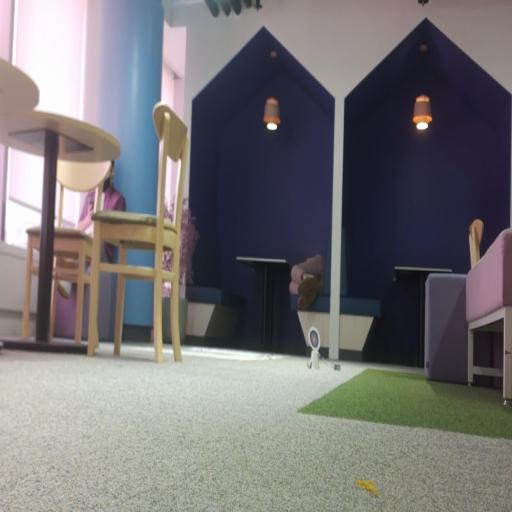target: (308, 326, 320, 351)
